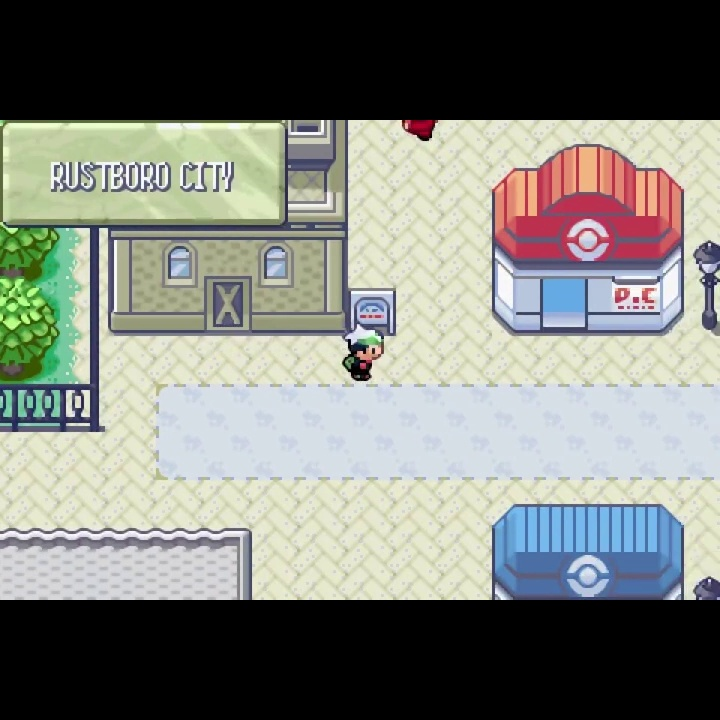agent: (342, 320, 387, 388)
house: (108, 121, 351, 337), (1, 526, 254, 599)
pokecen: (488, 139, 688, 338)
pokemart: (489, 501, 688, 601)
